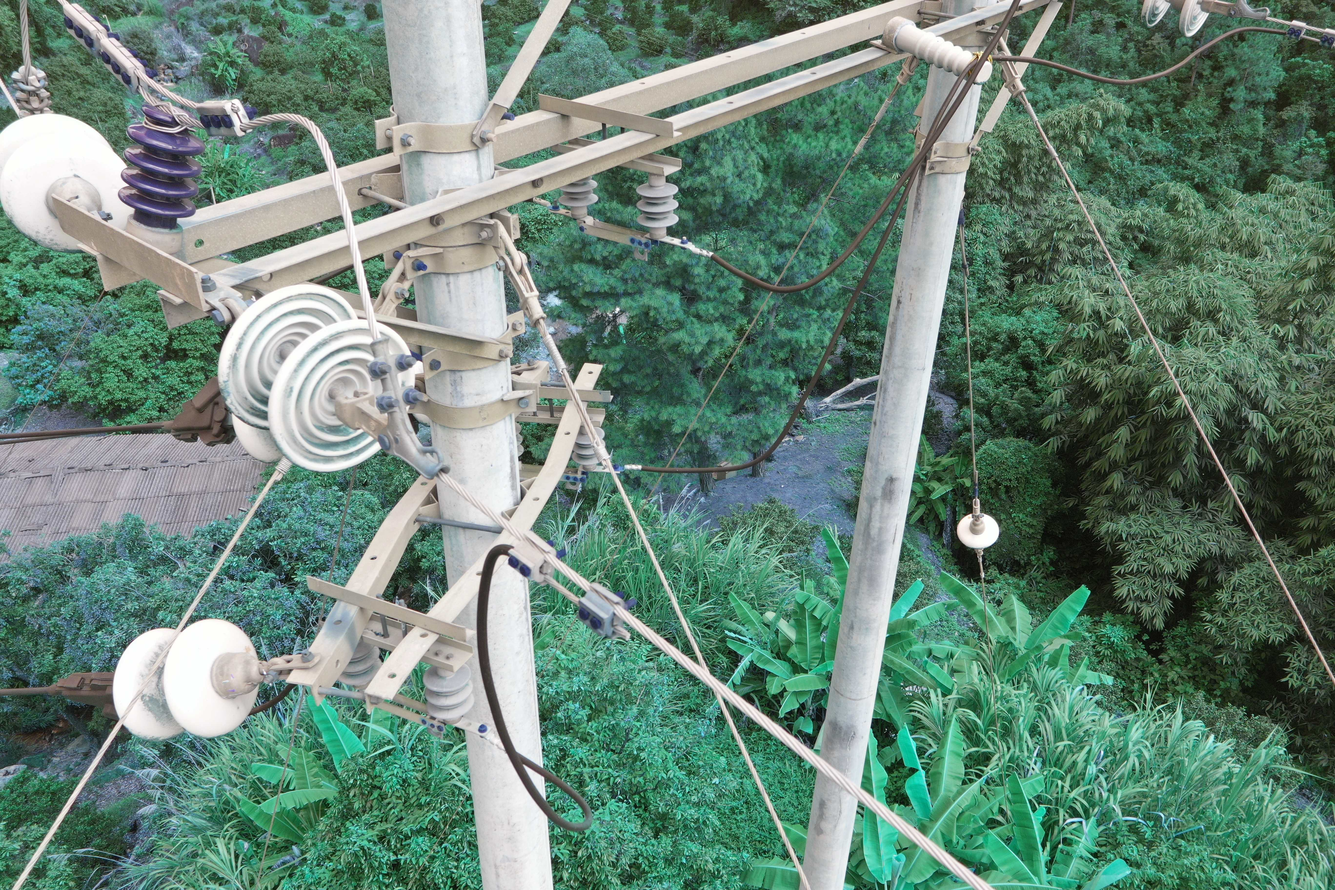severe_soiling_no_discharge_whole: (216, 282, 418, 478), (112, 615, 267, 751), (1137, 1, 1214, 42)
